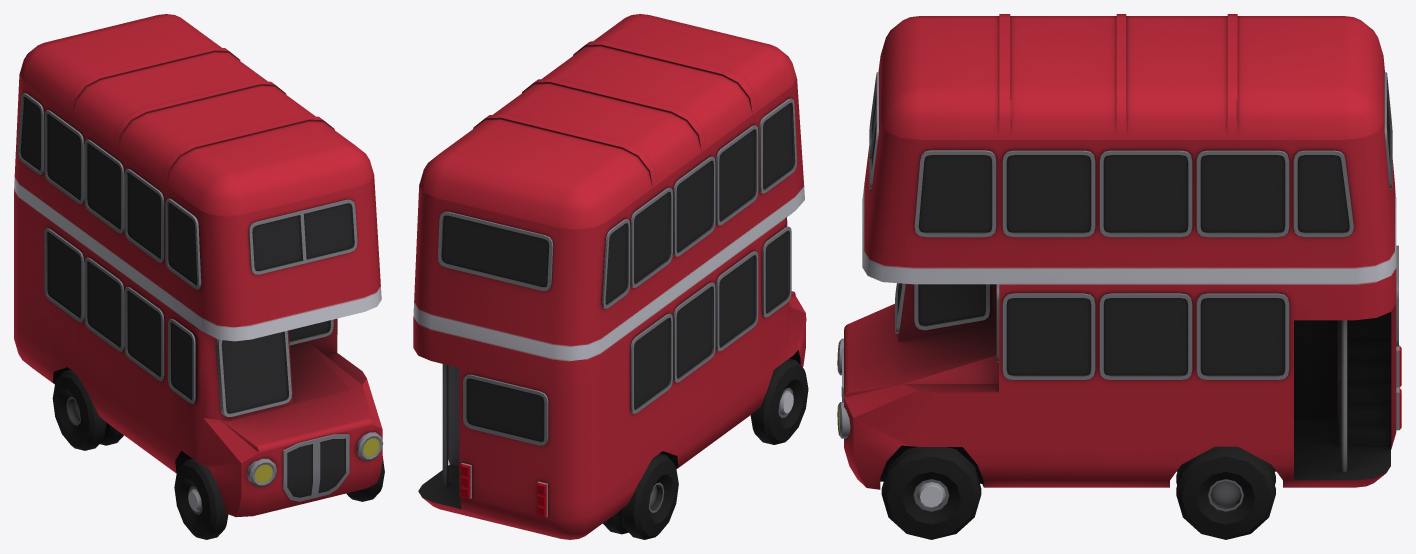
The model's file is ldn_bus_double_decker.glb.
3 views of the same model, side by side, from view 1: azimuth 30°, elevation 25°; view 2: azimuth 150°, elevation 25°; view 3: azimuth 270°, elevation 25° (orthographic). The views are drawn at different scales.
Visible parts, largest first — view 1: Bus_BodyBus_0, Windows_Windows_0, Wheels_Wheels_0, Details_Details_0; view 2: Bus_BodyBus_0, Windows_Windows_0, Wheels_Wheels_0, Details_Details_0; view 3: Bus_BodyBus_0, Windows_Windows_0, Wheels_Wheels_0, Details_Details_0.
Part boxes in pixels (left/top/right/bottom): Bus_BodyBus_0: left=14, top=14, right=382, bottom=517; Windows_Windows_0: left=17, top=93, right=357, bottom=416; Wheels_Wheels_0: left=52, top=369, right=384, bottom=539; Details_Details_0: left=246, top=432, right=383, bottom=501; Bus_BodyBus_0: left=413, top=14, right=805, bottom=539; Windows_Windows_0: left=437, top=98, right=796, bottom=445; Wheels_Wheels_0: left=603, top=358, right=808, bottom=539; Details_Details_0: left=461, top=317, right=806, bottom=517; Bus_BodyBus_0: left=844, top=14, right=1396, bottom=489; Windows_Windows_0: left=869, top=72, right=1398, bottom=379; Wheels_Wheels_0: left=881, top=446, right=1275, bottom=539; Details_Details_0: left=837, top=338, right=1401, bottom=438.
Size of the model in its own units: 2.49 by 4.87 by 5.66.
4 materials, 4 textured.
